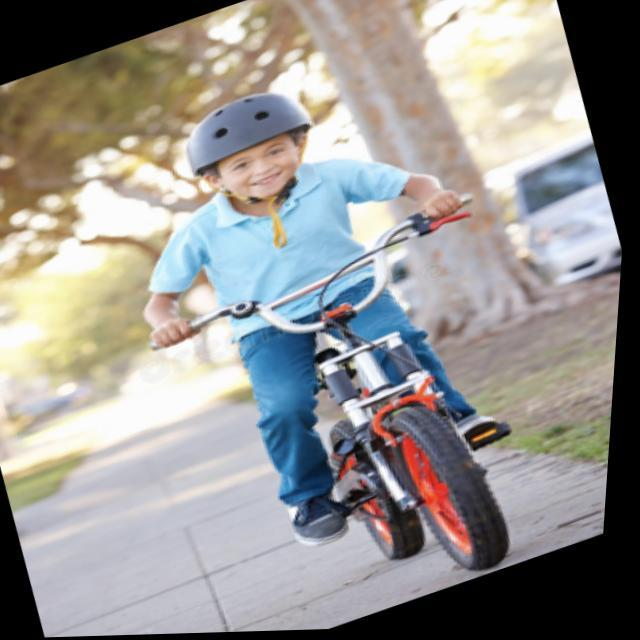Helmet: (182, 80, 327, 211)
